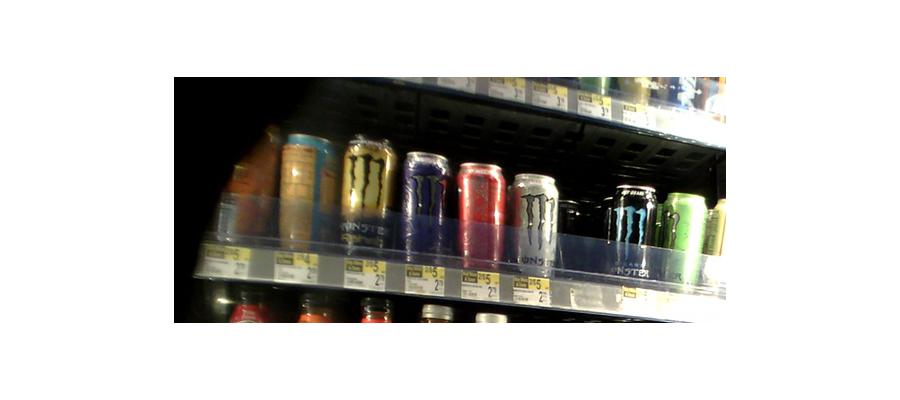bottle: (215, 115, 272, 254), (338, 136, 393, 263), (278, 133, 335, 254), (398, 150, 452, 261), (456, 157, 506, 270), (606, 181, 660, 280), (510, 172, 561, 276), (664, 188, 710, 292)
